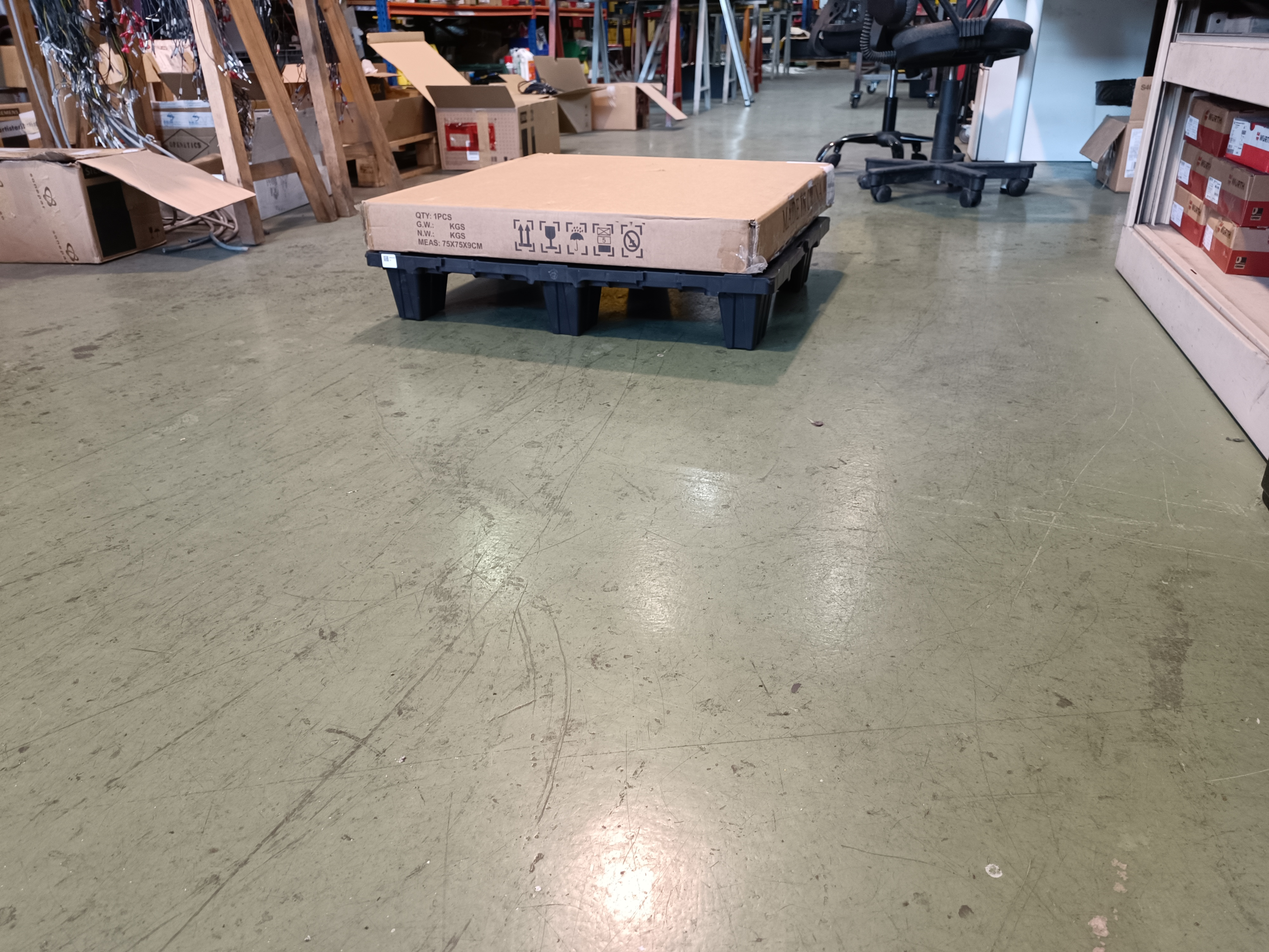block: (374, 261, 450, 322), (711, 287, 778, 355), (533, 278, 600, 337)
front: (368, 254, 770, 356)
hole pallet: (585, 287, 728, 351), (421, 268, 547, 327)
